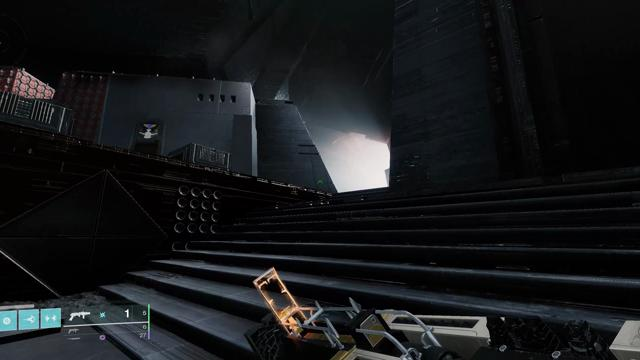drink: (138, 121, 160, 139)
